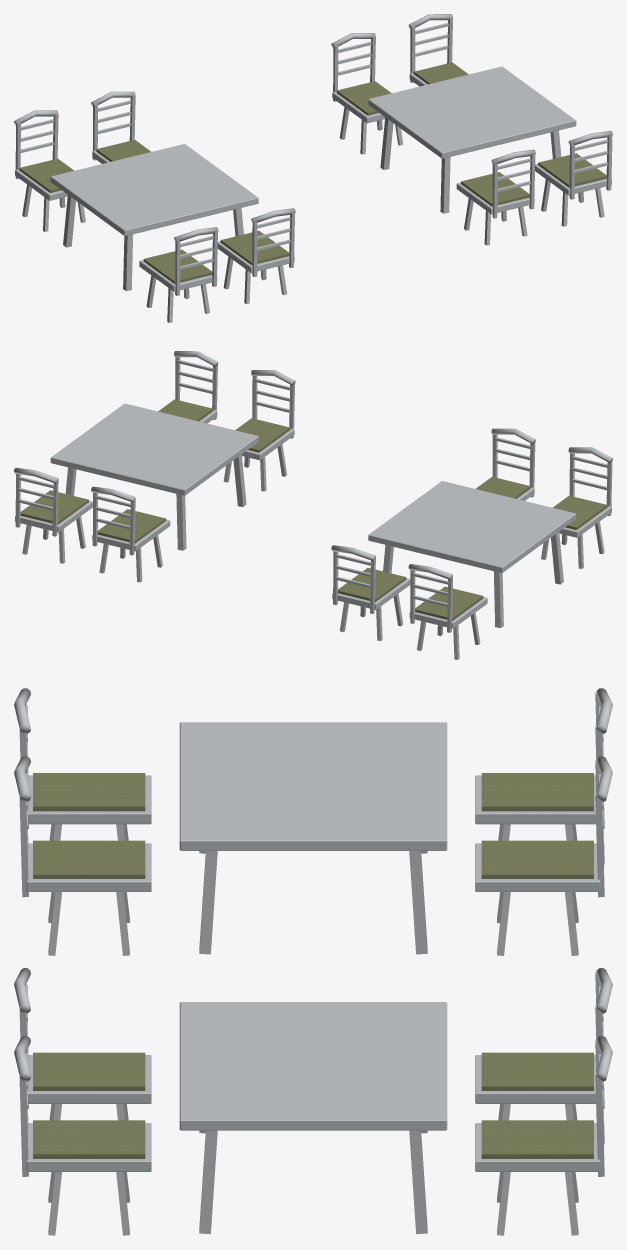
File: yokocho-tea-furniture-set.glb
The picture shows the model from 3 angles, top to bottom: view 1: azimuth 30°, elevation 25°; view 2: azimuth 150°, elevation 25°; view 3: azimuth 270°, elevation 25°; orthographic projection. The views are drawn at different scales.
Parts seen in each view (by area): view 1: Shops/S05/Personality/TeaFurniture__Food_PaleJoinery, Shops/S05/Personality/TeaFurniture__Food_Upholstery; view 2: Shops/S05/Personality/TeaFurniture__Food_PaleJoinery, Shops/S05/Personality/TeaFurniture__Food_Upholstery; view 3: Shops/S05/Personality/TeaFurniture__Food_PaleJoinery, Shops/S05/Personality/TeaFurniture__Food_Upholstery.
Boxes of the visible parts, x1,y1,x2,y2 form: Shops/S05/Personality/TeaFurniture__Food_PaleJoinery: (14, 14, 612, 322); Shops/S05/Personality/TeaFurniture__Food_Upholstery: (19, 62, 606, 283); Shops/S05/Personality/TeaFurniture__Food_PaleJoinery: (14, 351, 612, 659); Shops/S05/Personality/TeaFurniture__Food_Upholstery: (20, 399, 607, 620); Shops/S05/Personality/TeaFurniture__Food_PaleJoinery: (14, 688, 612, 1235); Shops/S05/Personality/TeaFurniture__Food_Upholstery: (33, 773, 593, 1158).
Bounding box in the file's own units: 5.04 × 1.01 × 3.2.
Materials: 2 (1 with a texture image).
